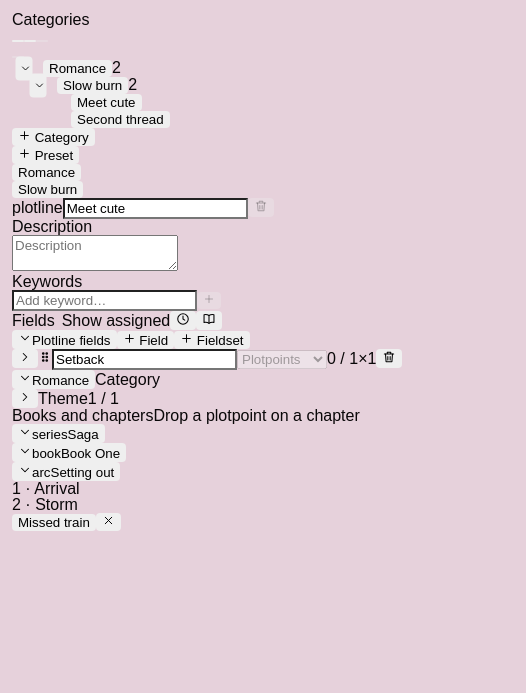
ticking plotlines in the contents › opens the compare view at two ticked plotlines, and a row's name goes back to its editor
Click the checkbox named "Select Meet cute" at (106, 102), box [71,94,142,111]
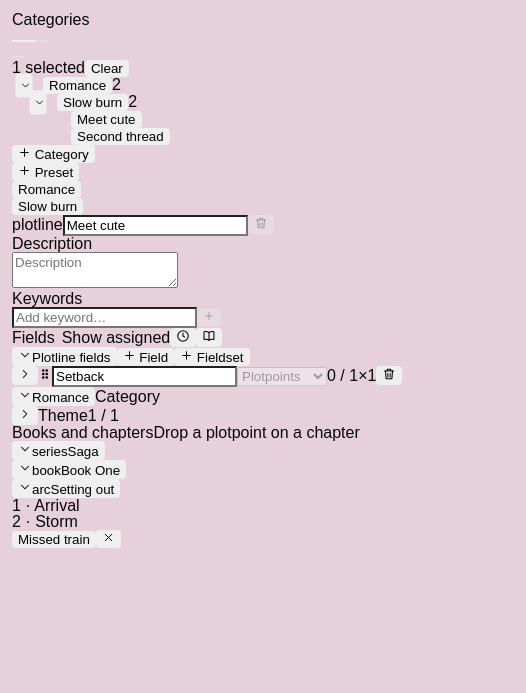
Click the checkbox named "Select Second thread" at (120, 136), box [71,128,170,145]
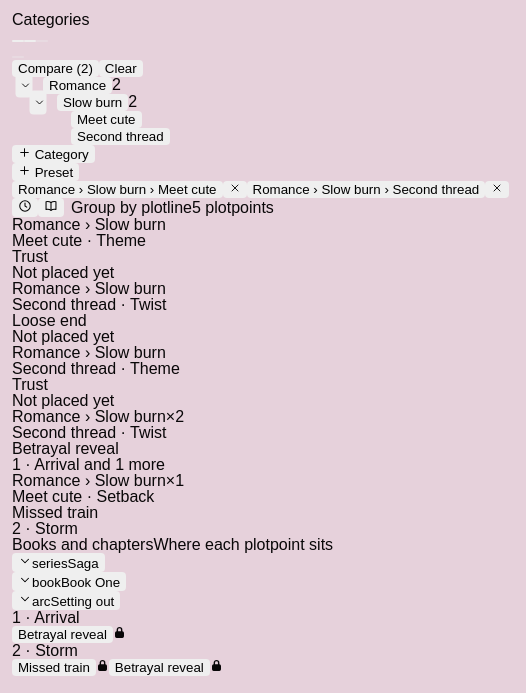
Expected: the element named "Plotlines being compared" is shown, [12,181,509,198]
Click the button "Second thread" at (120, 136), box [71,128,170,145]
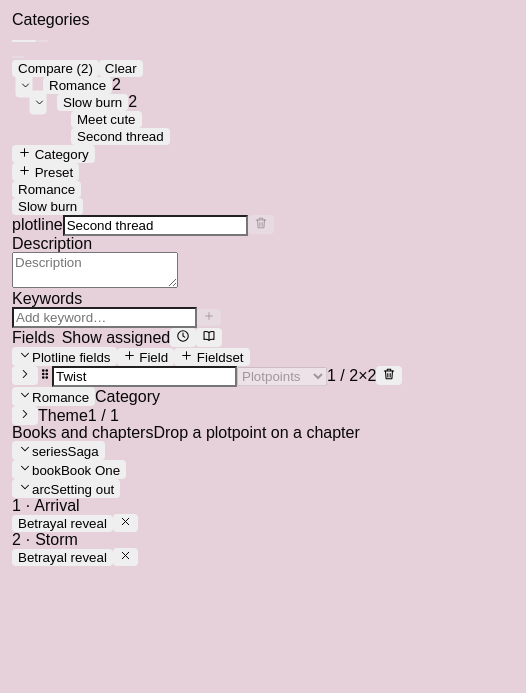
Expected: the field showing "Second thread" is shown, [63,215,248,236]
Click the button "Compare (2)" at (55, 68), box [12,60,99,77]
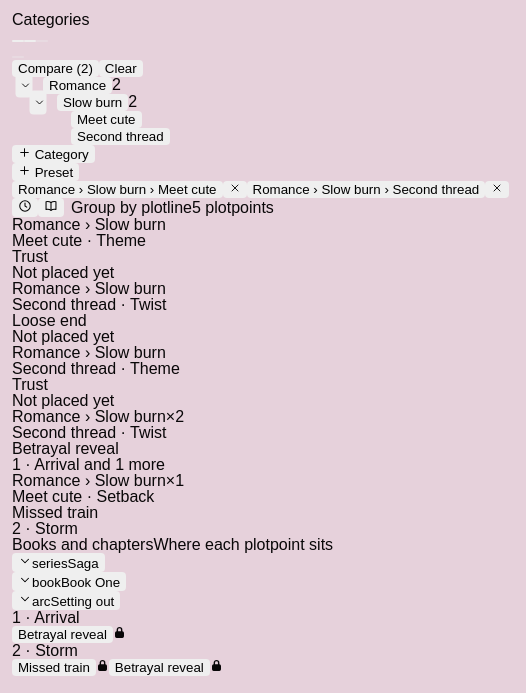
Expected: the element named "Plotlines being compared" is shown, [12,181,509,198]
